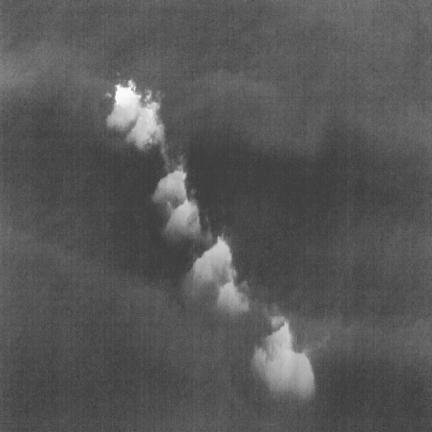flukeprints: (254, 322, 314, 397), (192, 237, 232, 283), (126, 102, 163, 148), (107, 81, 141, 131), (165, 199, 200, 239), (153, 170, 186, 202), (217, 281, 248, 313), (271, 316, 285, 330), (142, 90, 155, 105), (128, 80, 134, 90)
